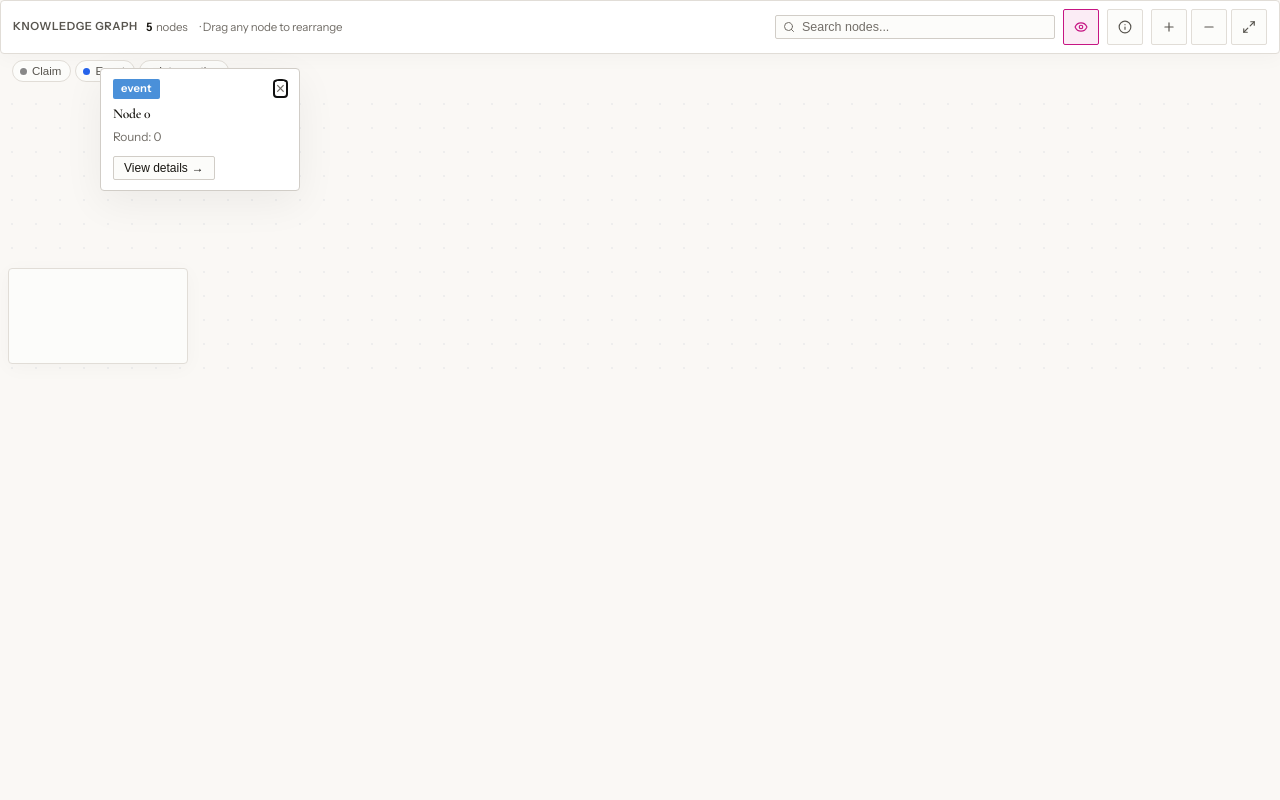
KGGraphBoard › NodeQuickCard integration › clicking close on NodeQuickCard only closes quickCard
Expected: the dialog with test id "node-quick-card" is shown, [100, 68, 300, 191]
Click the button named "Close" at {"x": 280, "y": 89}, box [274, 81, 287, 97]
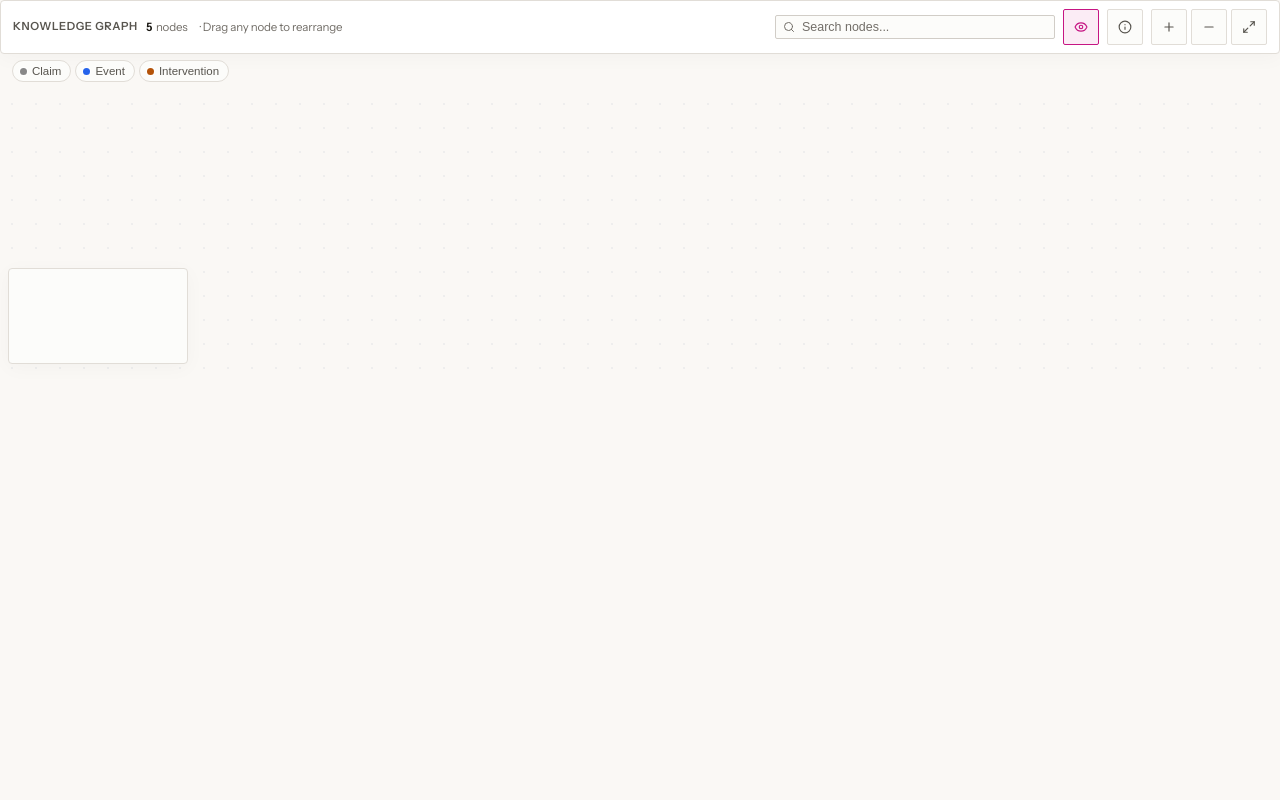
Expected: the dialog with test id "node-quick-card" is gone
